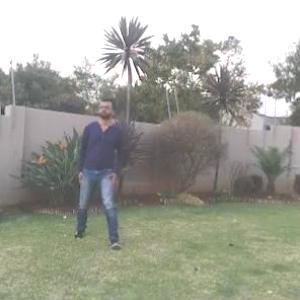follow: (72, 87, 129, 259)
